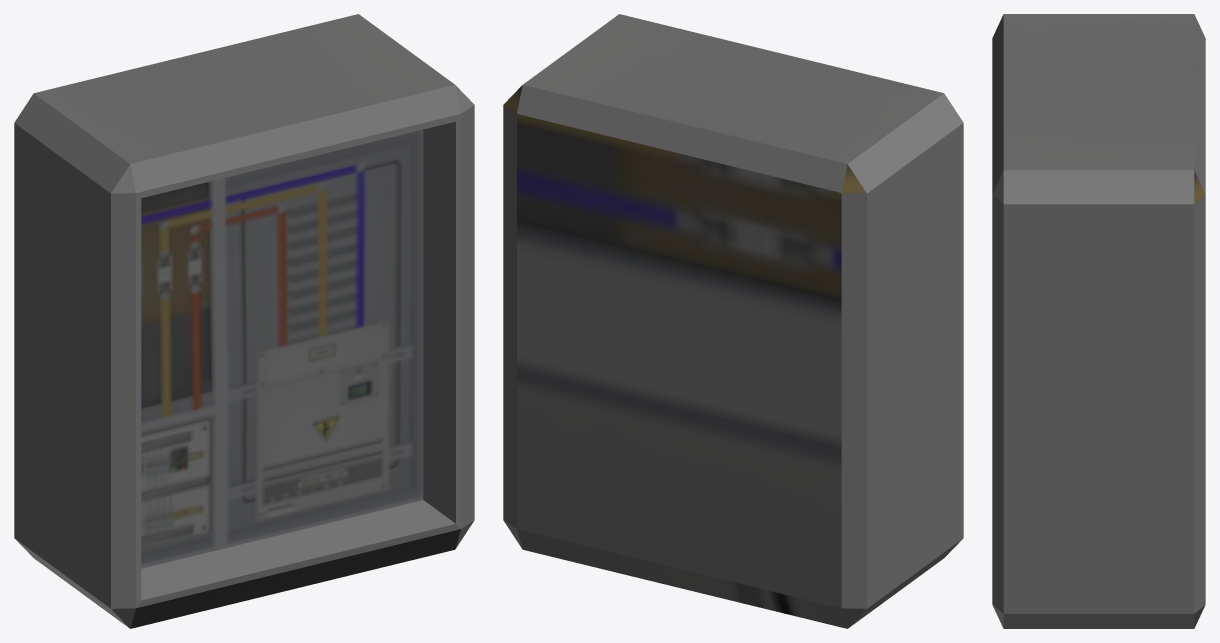
File: PanelCuerpo.obj
3 renders of one model, left to right at view 1: azimuth 30°, elevation 25°; view 2: azimuth 150°, elevation 25°; view 3: azimuth 270°, elevation 25°, orthographic.
Visible parts, largest first — view 1: Cube; view 2: Cube; view 3: Cube.
Boxes of the visible parts, bbox=[...] form: Cube: bbox=[14, 14, 474, 628]; Cube: bbox=[503, 14, 963, 628]; Cube: bbox=[992, 14, 1205, 628].
Size of the model in its own units: 1.64 by 2 by 0.8439.
